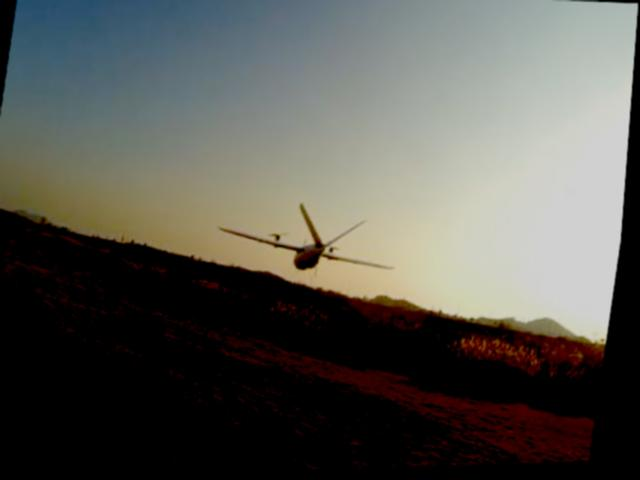uav: (208, 188, 420, 301)
